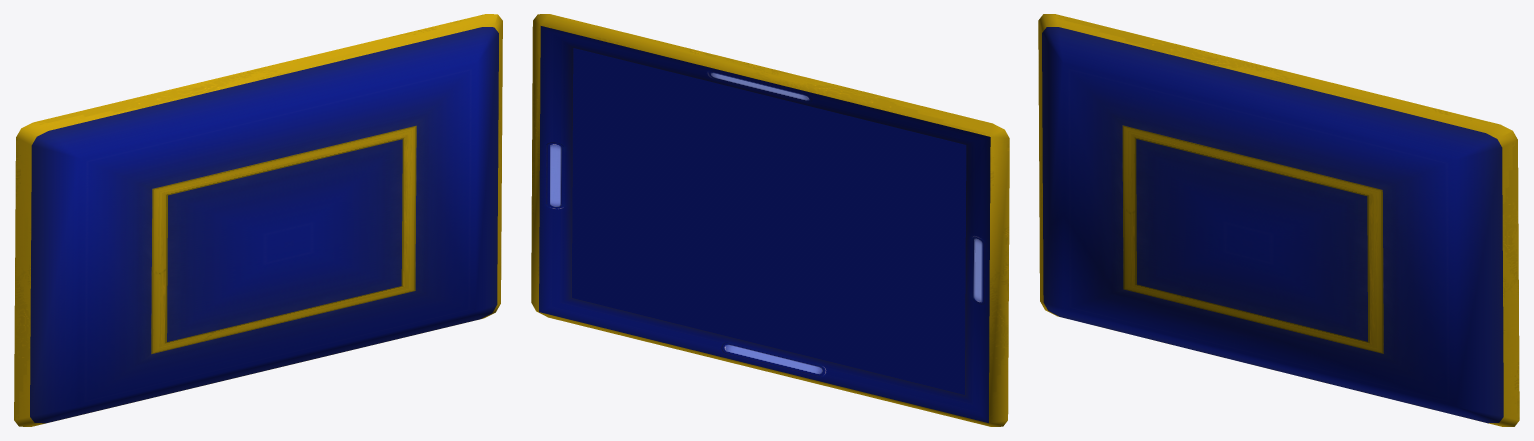
File: s0_BigBoard_Art_01.gltf
3 views of the same model, side by side, from view 1: azimuth 30°, elevation 25°; view 2: azimuth 150°, elevation 25°; view 3: azimuth 330°, elevation 25° (orthographic).
Visible parts, largest first — view 1: node_BigBoard_Art; view 2: node_BigBoard_Art; view 3: node_BigBoard_Art.
Part boxes in pixels (x1,y1,x2,y2): node_BigBoard_Art: [14, 14, 502, 426]; node_BigBoard_Art: [531, 14, 1009, 426]; node_BigBoard_Art: [1038, 14, 1519, 426].
Size of the model in its own units: 10.73 by 6.47 by 1.49.
